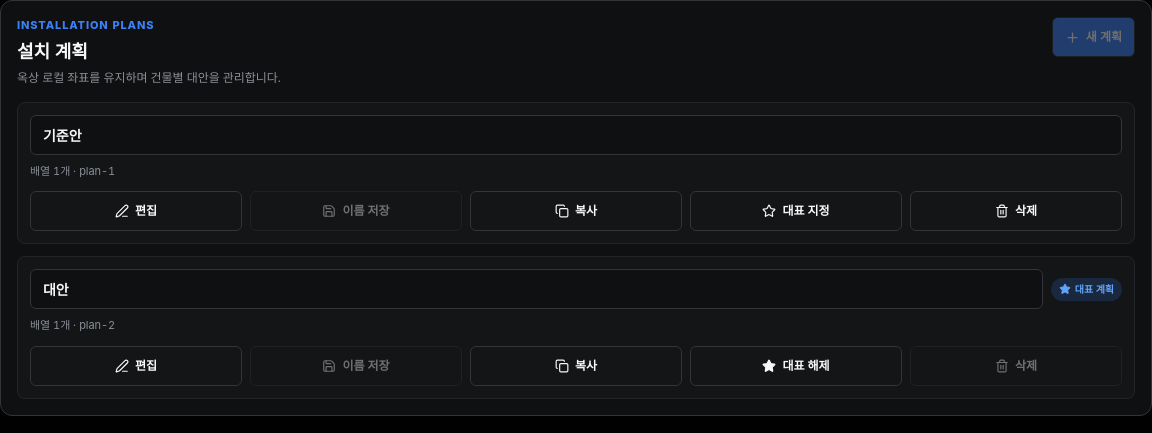
it: InstallationPlanManager › publishes a non-first loaded representative and replaces it using installationPlanId
Expected: the text "대표 계획" is shown, left=1051, top=278, right=1122, bottom=300
Expected: the button with aria-label "대안 대표 해제" is shown, left=690, top=346, right=902, bottom=386
Click the button with aria-label "기준안 대표로 지정": x=796, y=211 left=690, top=191, right=902, bottom=231
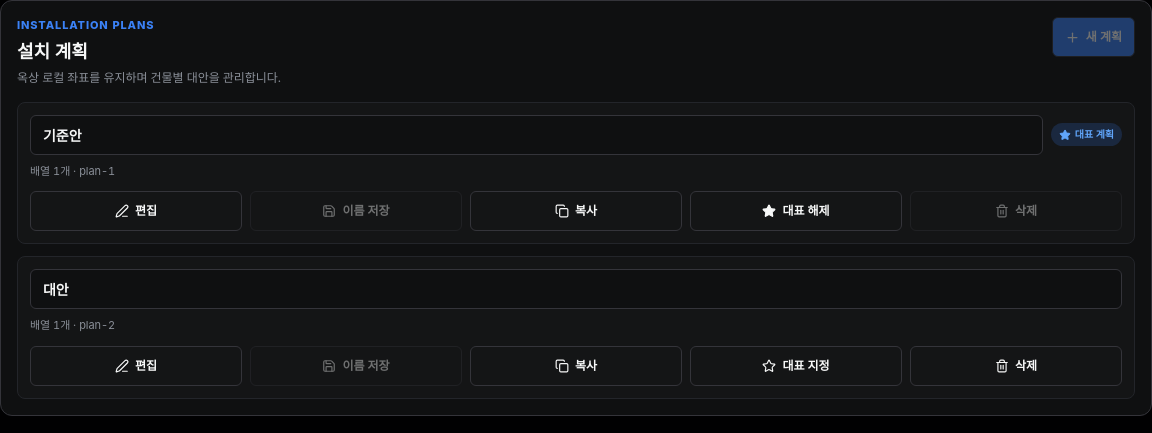
Expected: the button with aria-label "기준안 대표 해제" is shown, left=690, top=191, right=902, bottom=231
